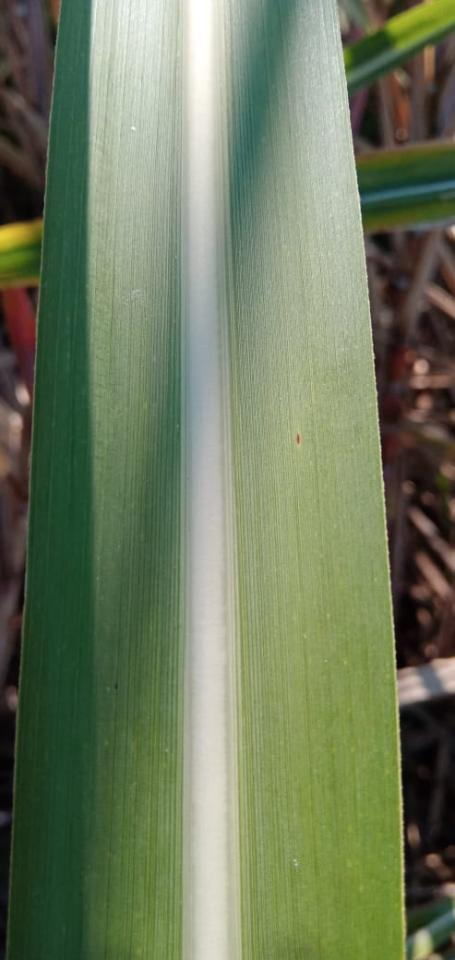Healthy: (8, 0, 402, 959)
